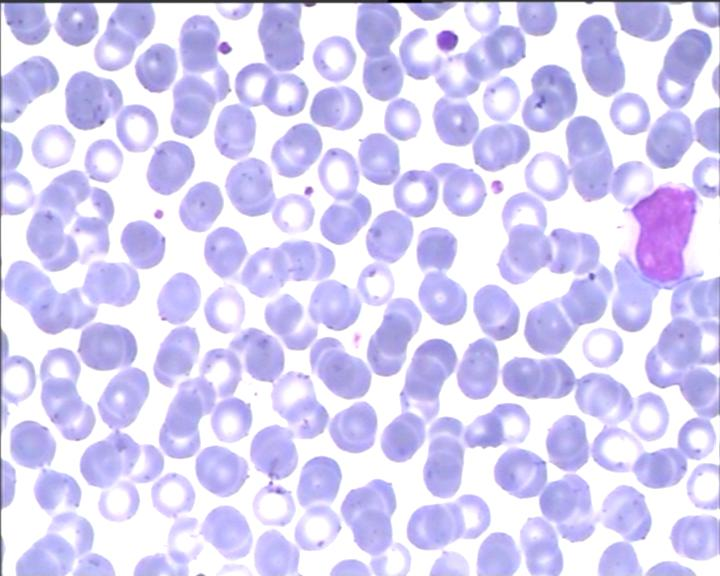mono: (618, 179, 718, 295)
